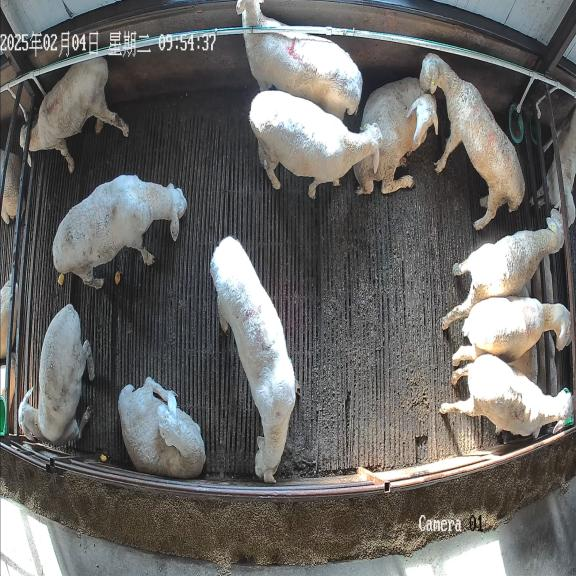drinking: (20, 58, 129, 172)
lying: (353, 77, 438, 193), (118, 377, 205, 478), (507, 287, 544, 382)
stand: (210, 237, 296, 483), (420, 53, 524, 230), (52, 175, 187, 288), (236, 0, 362, 119), (443, 209, 564, 329), (249, 90, 380, 198), (440, 354, 572, 437), (18, 304, 94, 446), (452, 297, 572, 367)
